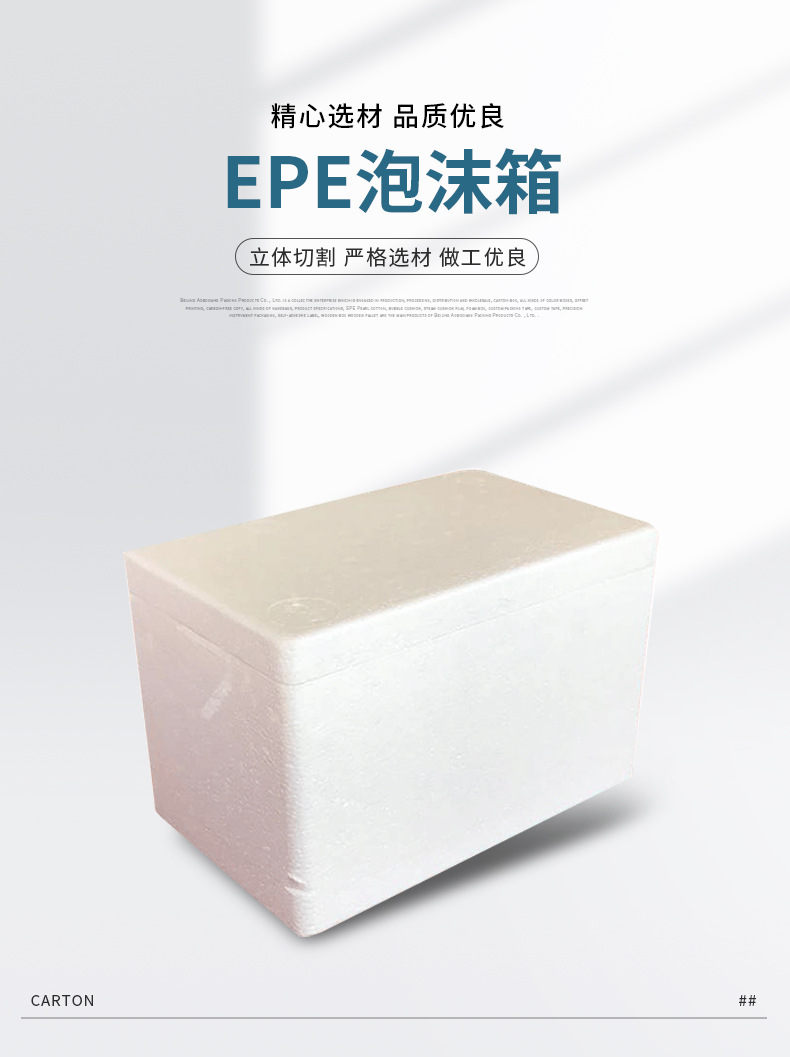泡沫箱: (128, 471, 655, 936)
